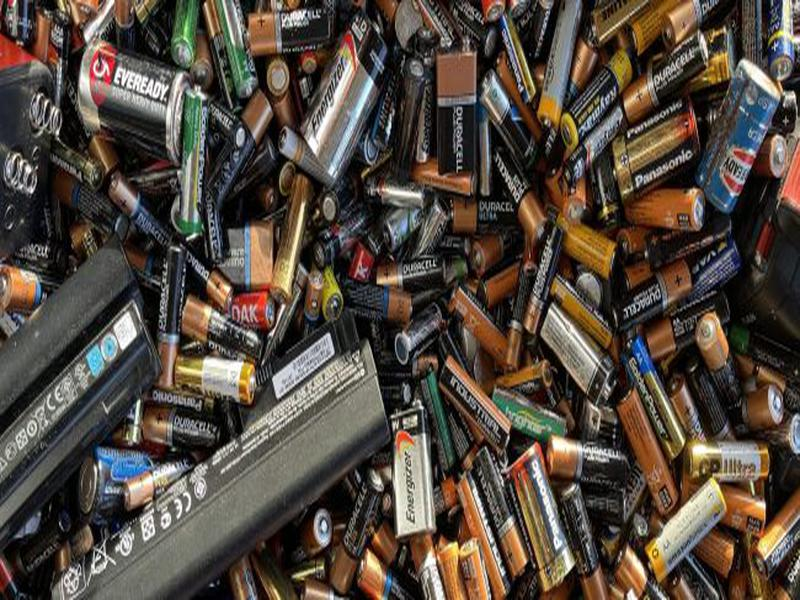battery: (297, 7, 396, 180), (68, 35, 197, 167), (691, 54, 782, 217), (505, 439, 585, 595), (636, 476, 729, 584), (616, 338, 691, 459), (425, 33, 485, 178), (325, 462, 391, 593), (207, 87, 279, 207), (556, 47, 638, 152), (429, 357, 514, 454), (606, 257, 701, 332), (268, 174, 316, 309), (147, 244, 187, 394), (677, 427, 779, 484), (521, 215, 567, 341), (172, 351, 269, 410)
